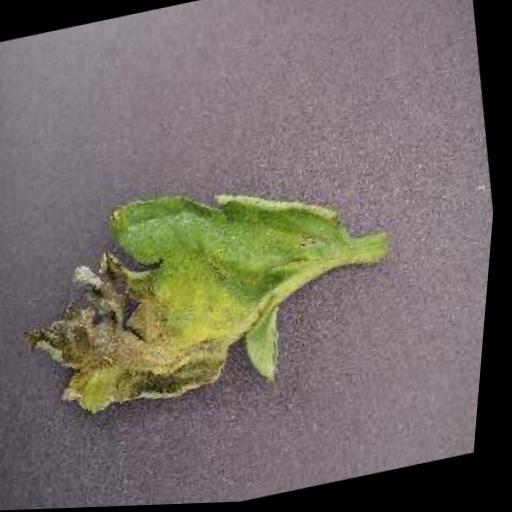Late Blight: (3, 160, 383, 432)
